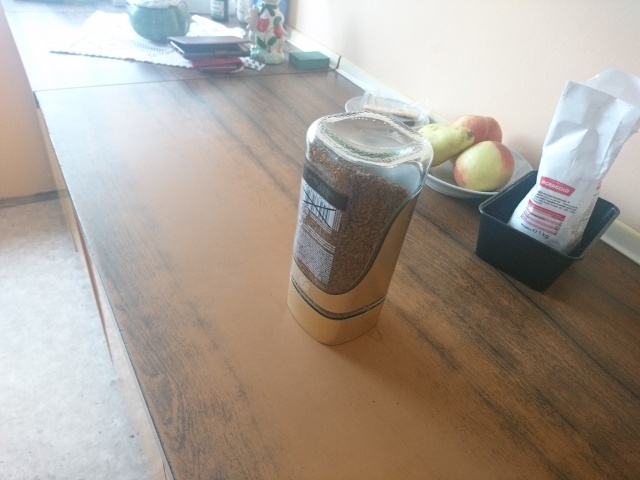Nescafe Gold 225g: (282, 108, 437, 348)
